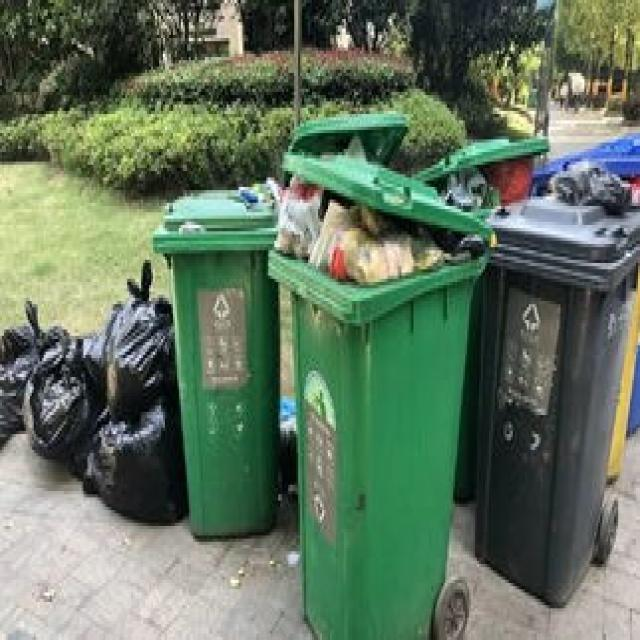garbage: (0, 256, 187, 520)
overflow: (264, 152, 493, 637), (473, 158, 638, 602), (151, 171, 284, 539)
